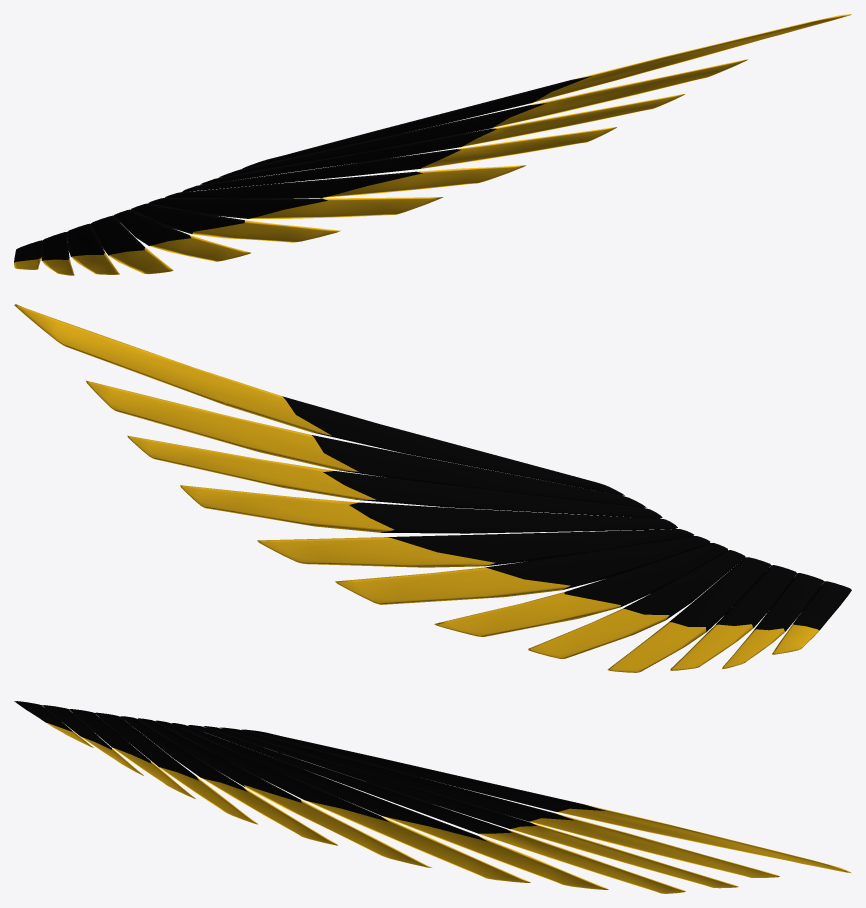
File: ave2alaI.obj
The picture shows the model from 3 angles, top to bottom: view 1: azimuth 30°, elevation 25°; view 2: azimuth 150°, elevation 25°; view 3: azimuth 330°, elevation 25°; orthographic projection. The views are drawn at different scales.
Visible parts, largest first — view 1: ave3:Mesh polySurface7, polySurface10 ave3:Mesh, ave3:Mesh polySurface12, ave3:Mesh polySurface6, ave3:Mesh polySurface11, ave3:Mesh polySurface8, ave3:Mesh polySurface13, ave3:Mesh polySurface4, ave3:Mesh polySurface14, ave3:Mesh polySurface9, ave3:Mesh polySurface15, ave3:Mesh polySurface5; view 2: polySurface10 ave3:Mesh, ave3:Mesh polySurface7, ave3:Mesh polySurface6, ave3:Mesh polySurface11, ave3:Mesh polySurface12, ave3:Mesh polySurface8, ave3:Mesh polySurface13, ave3:Mesh polySurface4, ave3:Mesh polySurface14, ave3:Mesh polySurface9, ave3:Mesh polySurface15, ave3:Mesh polySurface5; view 3: ave3:Mesh polySurface7, polySurface10 ave3:Mesh, ave3:Mesh polySurface12, ave3:Mesh polySurface6, ave3:Mesh polySurface8, ave3:Mesh polySurface11, ave3:Mesh polySurface13, ave3:Mesh polySurface4, ave3:Mesh polySurface14, ave3:Mesh polySurface9, ave3:Mesh polySurface15, ave3:Mesh polySurface5.
Part boxes in pixels (left/top/right/bottom): ave3:Mesh polySurface7: left=219, top=59, right=747, bottom=177; polySurface10 ave3:Mesh: left=242, top=14, right=851, bottom=168; ave3:Mesh polySurface12: left=165, top=165, right=525, bottom=198; ave3:Mesh polySurface6: left=182, top=127, right=616, bottom=191; ave3:Mesh polySurface11: left=200, top=94, right=684, bottom=184; ave3:Mesh polySurface8: left=149, top=197, right=443, bottom=218; ave3:Mesh polySurface13: left=131, top=203, right=340, bottom=242; ave3:Mesh polySurface4: left=113, top=209, right=250, bottom=261; ave3:Mesh polySurface14: left=90, top=215, right=173, bottom=274; ave3:Mesh polySurface9: left=66, top=223, right=119, bottom=274; ave3:Mesh polySurface15: left=41, top=232, right=74, bottom=275; ave3:Mesh polySurface5: left=14, top=240, right=41, bottom=269; polySurface10 ave3:Mesh: left=14, top=304, right=624, bottom=495; ave3:Mesh polySurface7: left=86, top=380, right=646, bottom=507; ave3:Mesh polySurface6: left=180, top=485, right=677, bottom=533; ave3:Mesh polySurface11: left=127, top=435, right=662, bottom=518; ave3:Mesh polySurface12: left=257, top=529, right=694, bottom=567; ave3:Mesh polySurface8: left=335, top=536, right=710, bottom=604; ave3:Mesh polySurface13: left=434, top=543, right=727, bottom=636; ave3:Mesh polySurface4: left=528, top=550, right=745, bottom=658; ave3:Mesh polySurface14: left=607, top=557, right=771, bottom=672; ave3:Mesh polySurface9: left=670, top=565, right=796, bottom=670; ave3:Mesh polySurface15: left=722, top=573, right=823, bottom=669; ave3:Mesh polySurface5: left=772, top=581, right=851, bottom=654; ave3:Mesh polySurface7: left=220, top=727, right=779, bottom=877; polySurface10 ave3:Mesh: left=241, top=729, right=851, bottom=873; ave3:Mesh polySurface12: left=172, top=723, right=608, bottom=889; ave3:Mesh polySurface6: left=188, top=725, right=685, bottom=893; ave3:Mesh polySurface8: left=156, top=720, right=530, bottom=882; ave3:Mesh polySurface11: left=203, top=726, right=738, bottom=888; ave3:Mesh polySurface13: left=138, top=718, right=431, bottom=867; ave3:Mesh polySurface4: left=120, top=716, right=337, bottom=845; ave3:Mesh polySurface14: left=95, top=712, right=257, bottom=824; ave3:Mesh polySurface9: left=69, top=709, right=195, bottom=798; ave3:Mesh polySurface15: left=42, top=705, right=143, bottom=775; ave3:Mesh polySurface5: left=14, top=701, right=93, bottom=747.
Bounding box in the file's own units: 1.18 × 0.2107 × 0.1519.
Materials: 1 (1 with a texture image).
